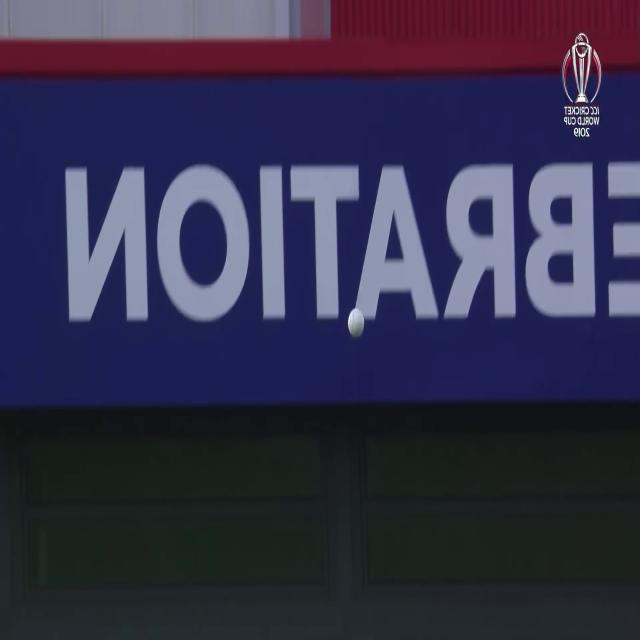ball: (342, 304, 367, 341)
